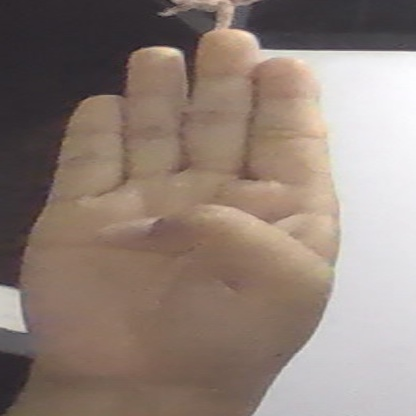B: (19, 27, 341, 399)
